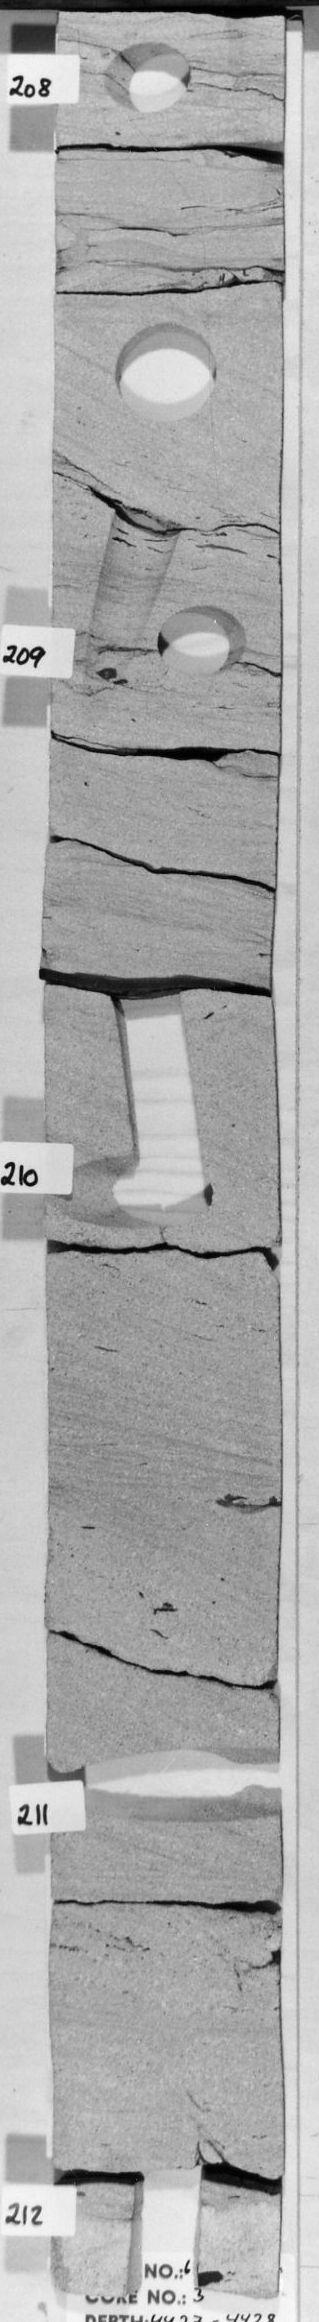hplug: (58, 1744, 280, 1833), (85, 1155, 227, 1237), (154, 603, 254, 683), (96, 40, 193, 116)
scal: (110, 318, 227, 425)
vplug: (105, 980, 212, 1155), (77, 521, 182, 683), (122, 2167, 215, 2292)
